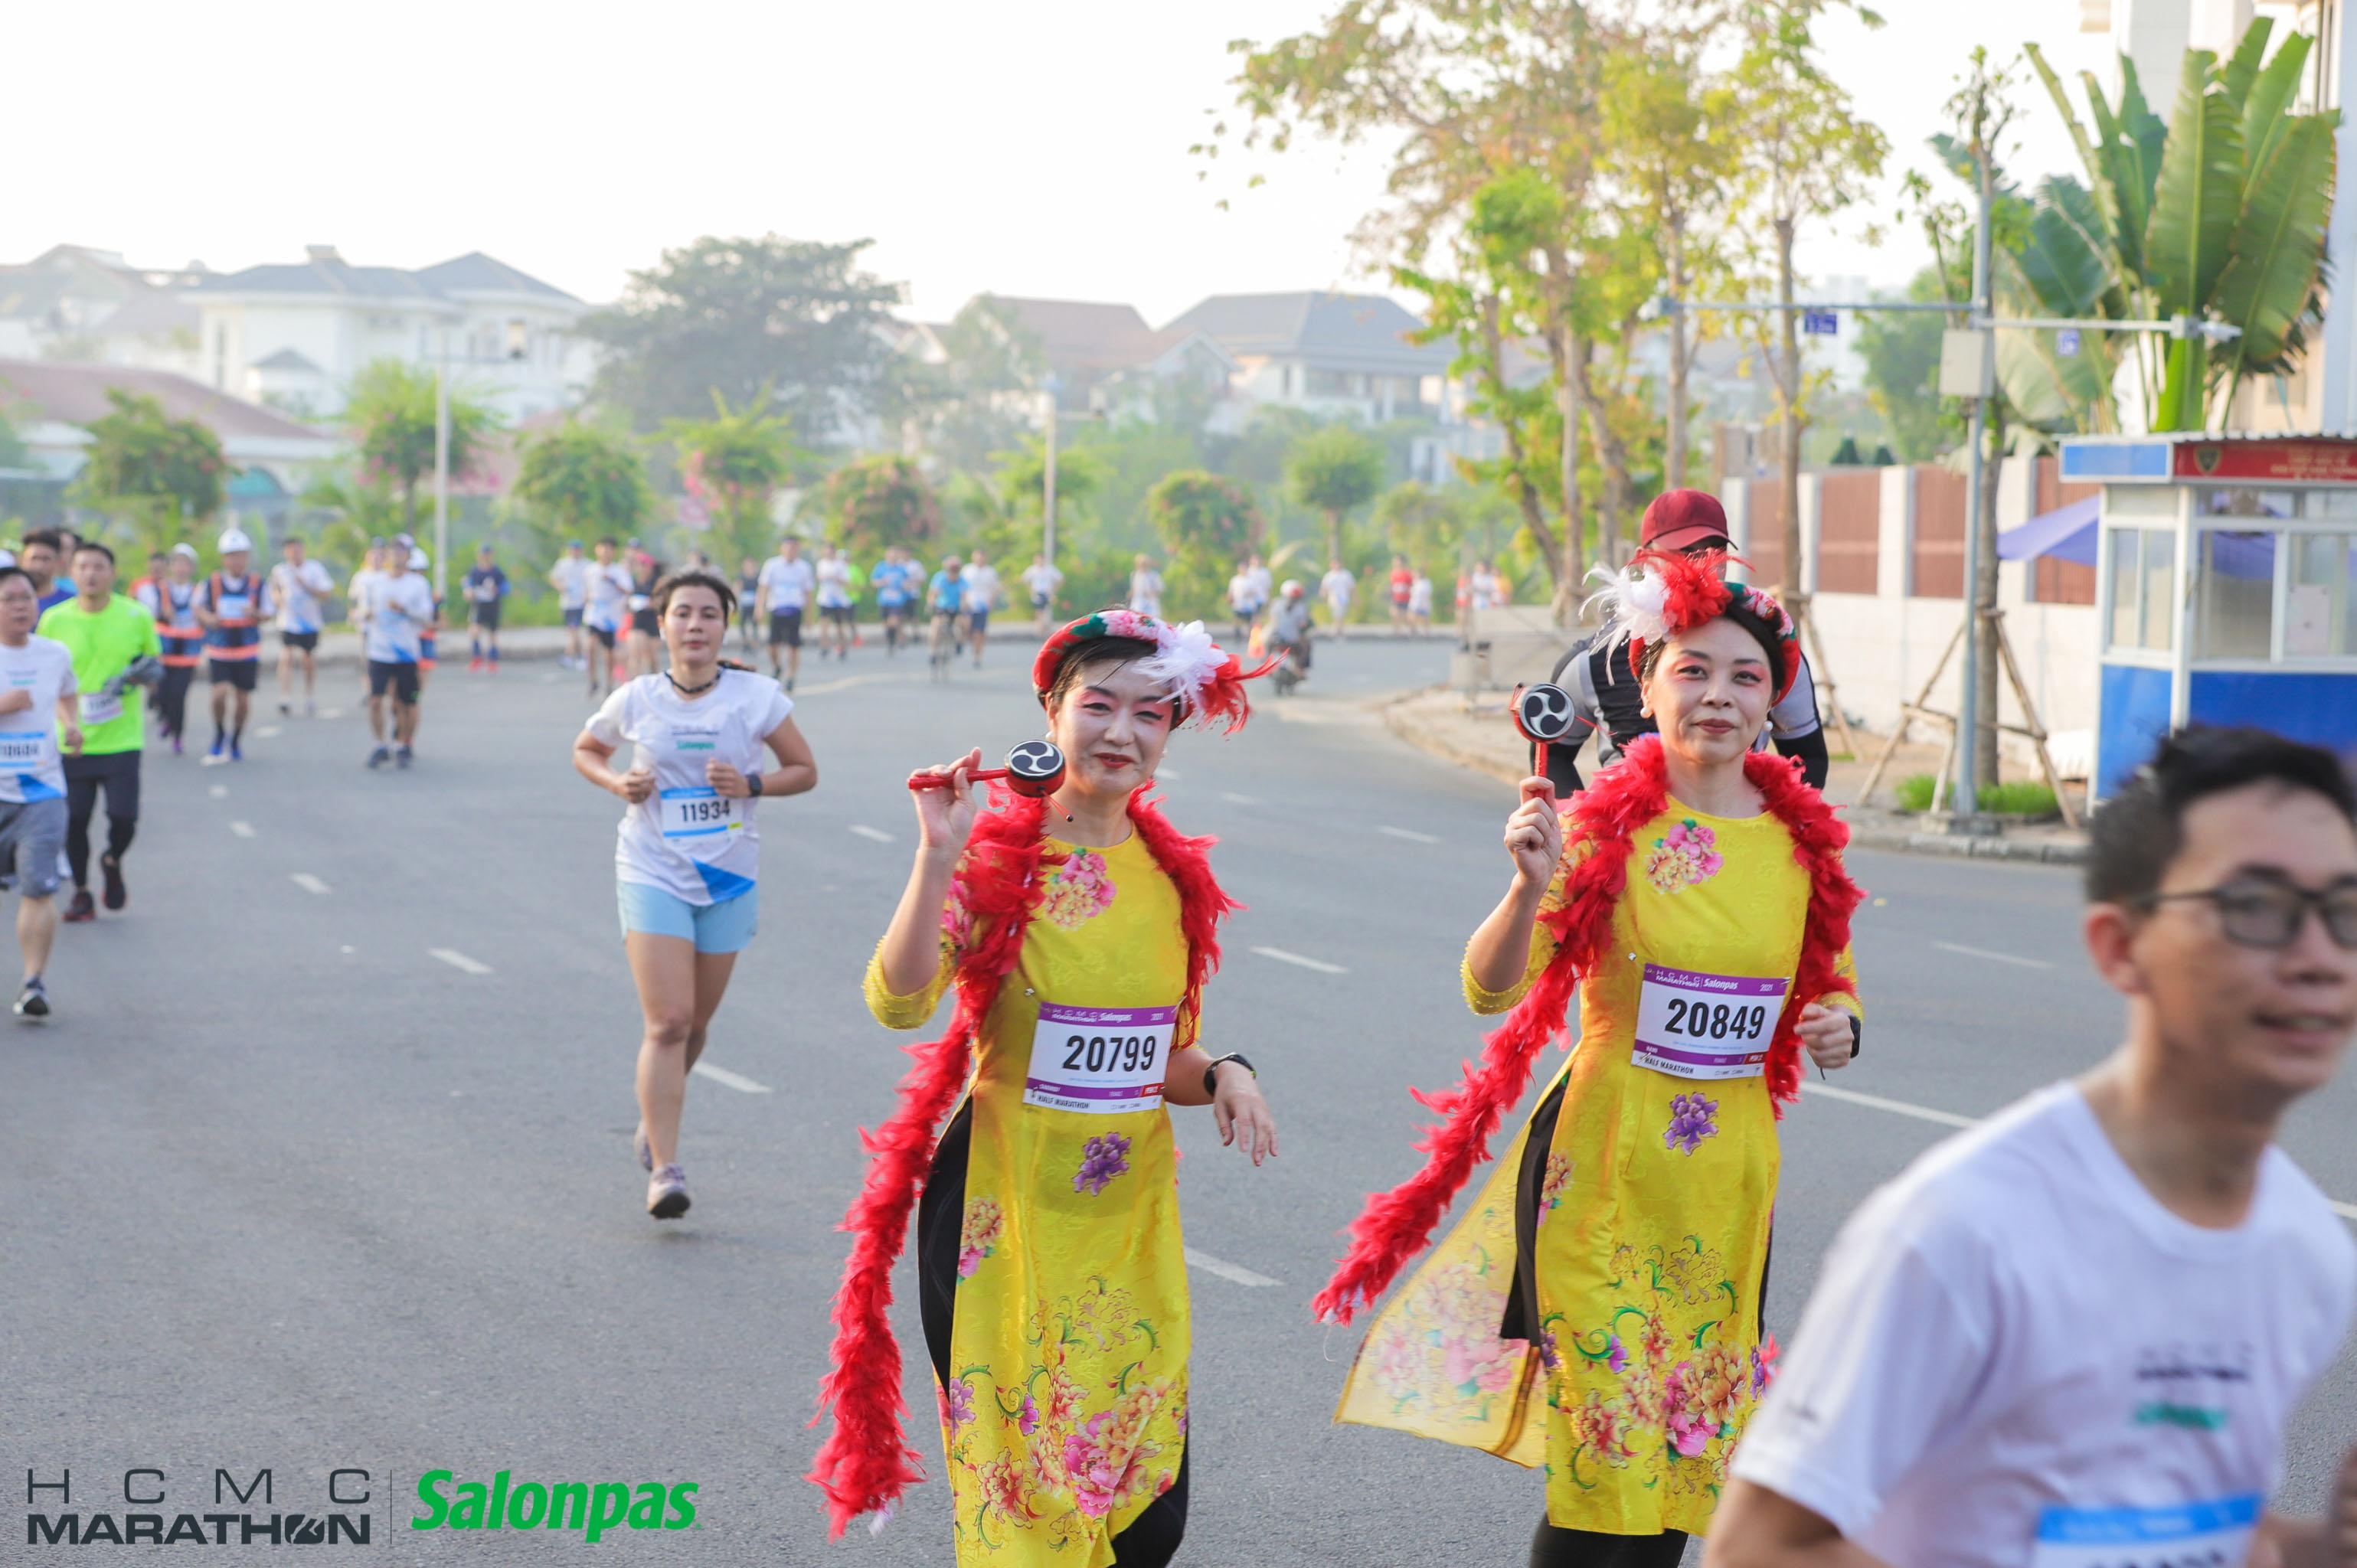bib: (1631, 966, 1792, 1078), (2026, 1500, 2273, 1568), (1022, 1003, 1167, 1113), (663, 787, 740, 838), (0, 738, 40, 773)
